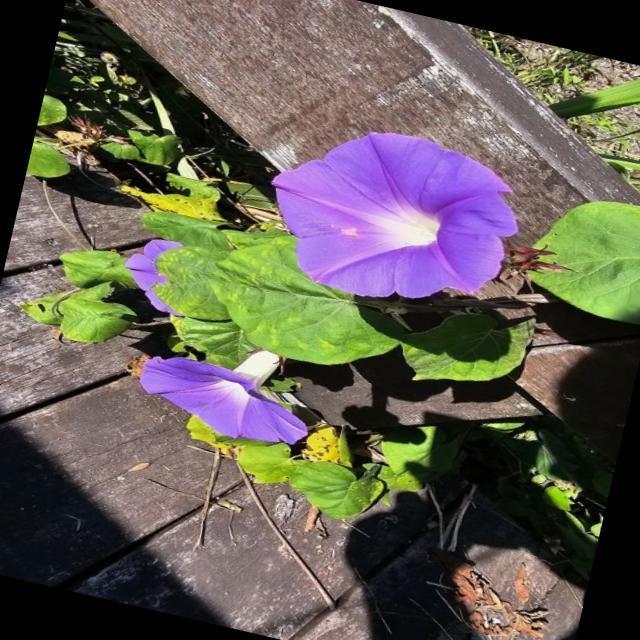ipomoea: (244, 103, 536, 329), (123, 343, 322, 458), (110, 227, 204, 321)
